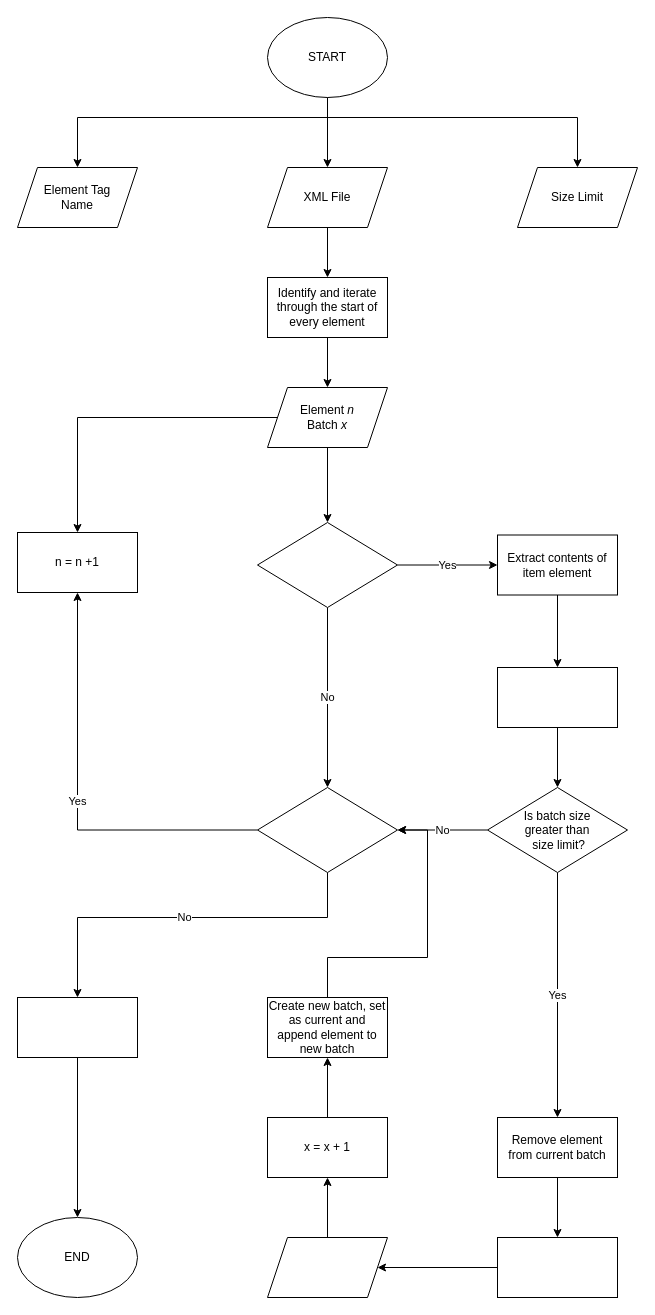
Image size: 655x1315. Some labels were removed from this diagram. The shapes that lost their labels are listed below. From the top down, each one's centre as x and y in pixels, then its label:
At (x=327, y=565): "Is element tag 'item'?".
At (x=557, y=697): "Append element to batch x and calculate byte size of batch".
At (x=327, y=829): "Are there anymore elements to iterate through?".
At (x=77, y=1027): "Write out contents of current batch to the last XML file".
At (x=327, y=1267): "Batch_X.xml".
At (x=557, y=1267): "Write out contents of current batch to new XML file".
